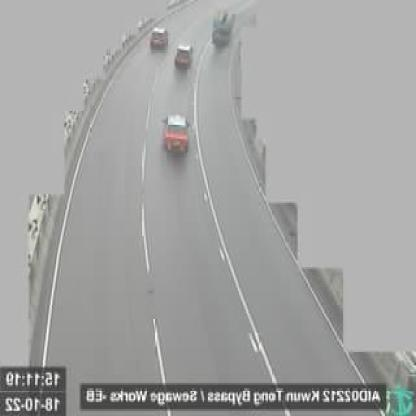Car: (163, 113, 190, 156), (172, 42, 192, 71), (150, 24, 169, 52)
Truck: (210, 10, 236, 50)
